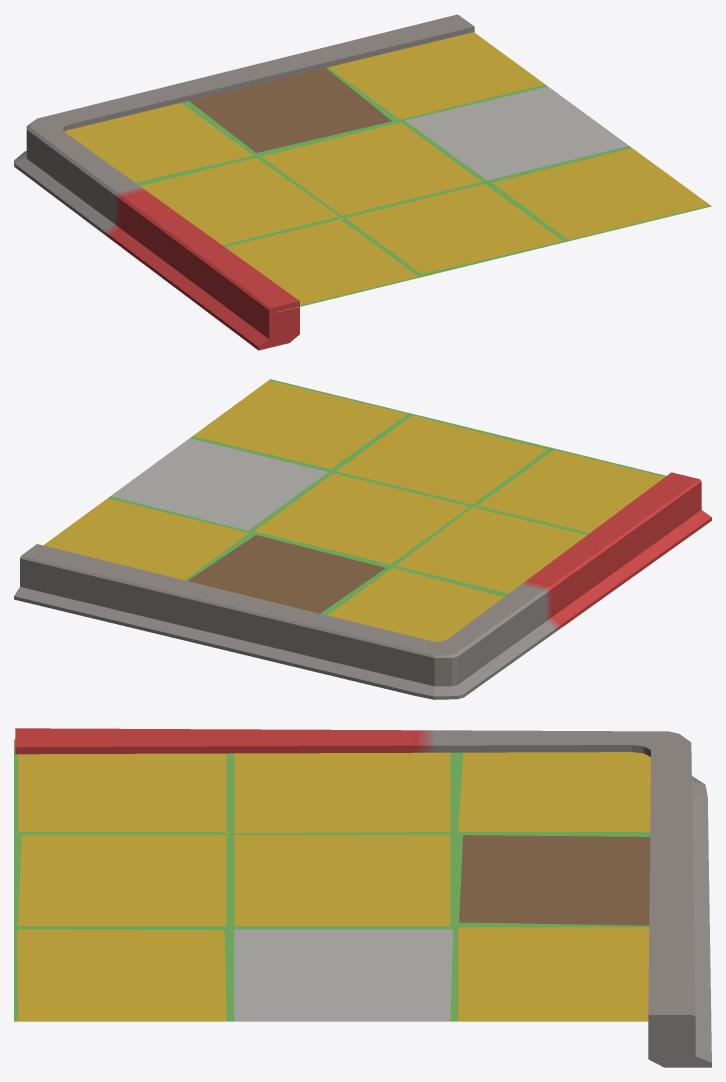
3 renders of one model, top to bottom at view 1: azimuth 30°, elevation 25°; view 2: azimuth 150°, elevation 25°; view 3: azimuth 270°, elevation 25°, orthographic. The views are drawn at different scales.
Parts seen in each view (by area): view 1: sidewalk1; view 2: sidewalk1; view 3: sidewalk1.
Boxes of the visible parts, left/top/right/bottom form: sidewalk1: left=14, top=14, right=711, bottom=350; sidewalk1: left=14, top=379, right=711, bottom=699; sidewalk1: left=14, top=728, right=711, bottom=1067.
Size of the model in its own units: 627 by 52.08 by 627.
